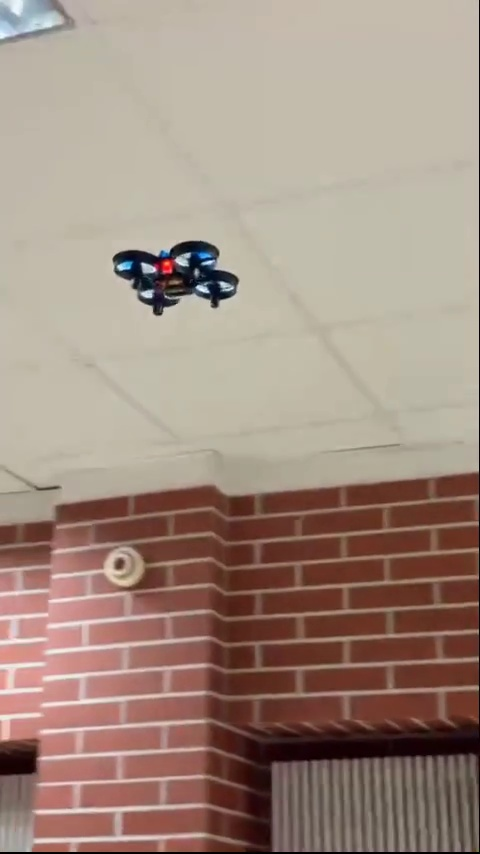drone: (114, 239, 240, 314)
